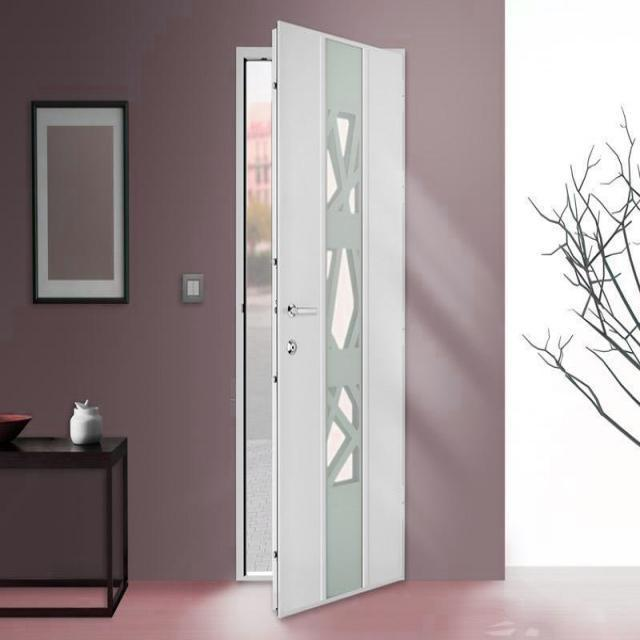door: (269, 19, 407, 618)
